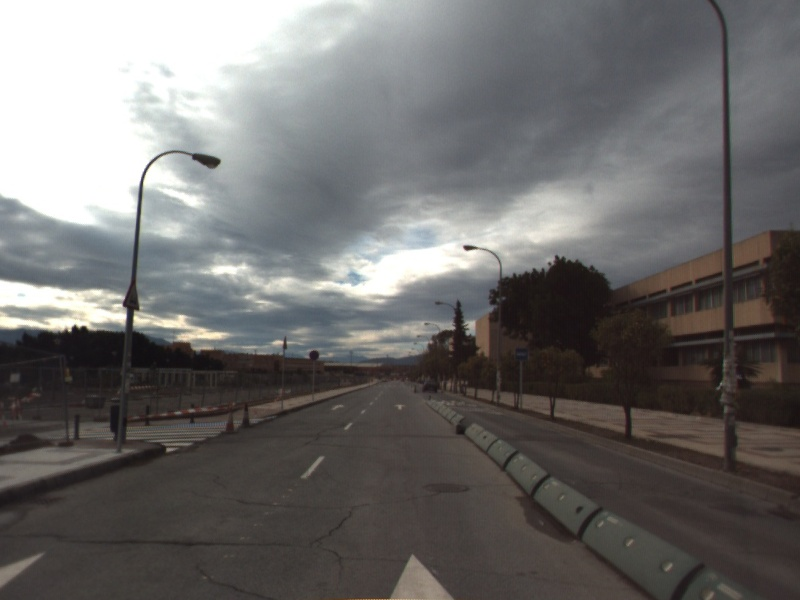STRAIGHT: (391, 402, 409, 412), (329, 402, 347, 412)
